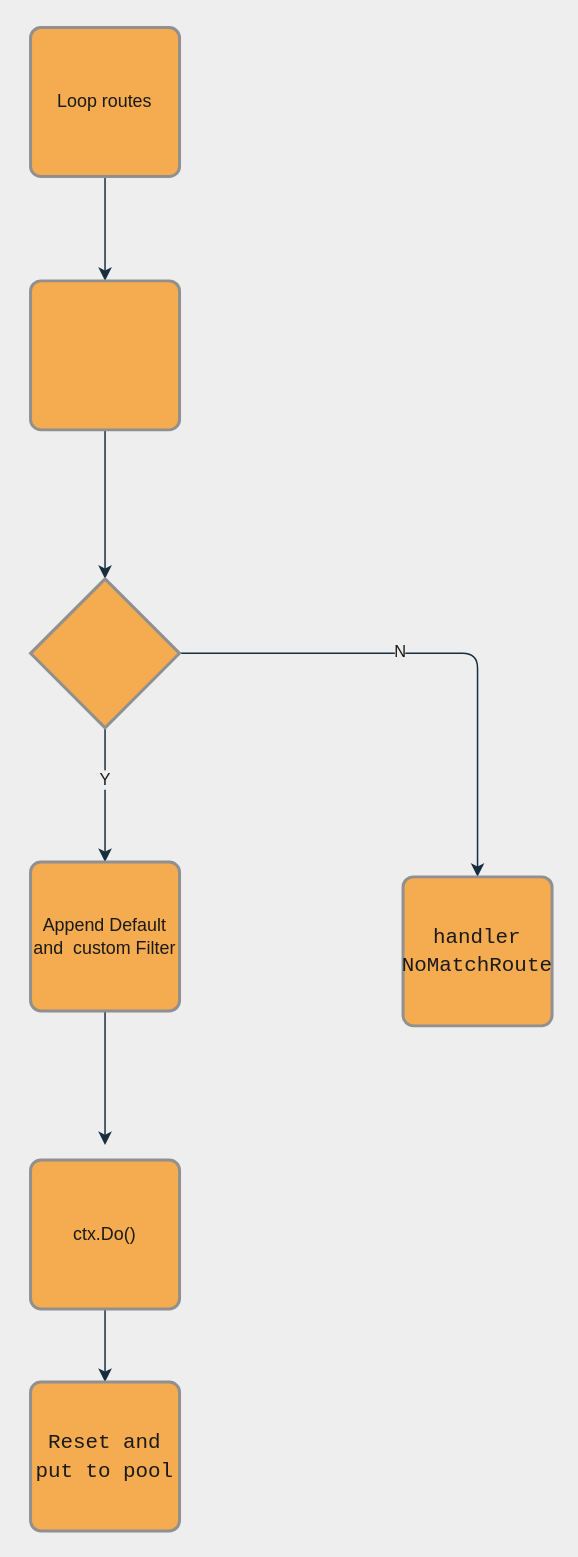
This 578x1557 diagram has some shape labels left out. Each missing label, with the centre of its shape:
"All Match?" goes at (104,653).
"Loop predicate" goes at (104,355).
